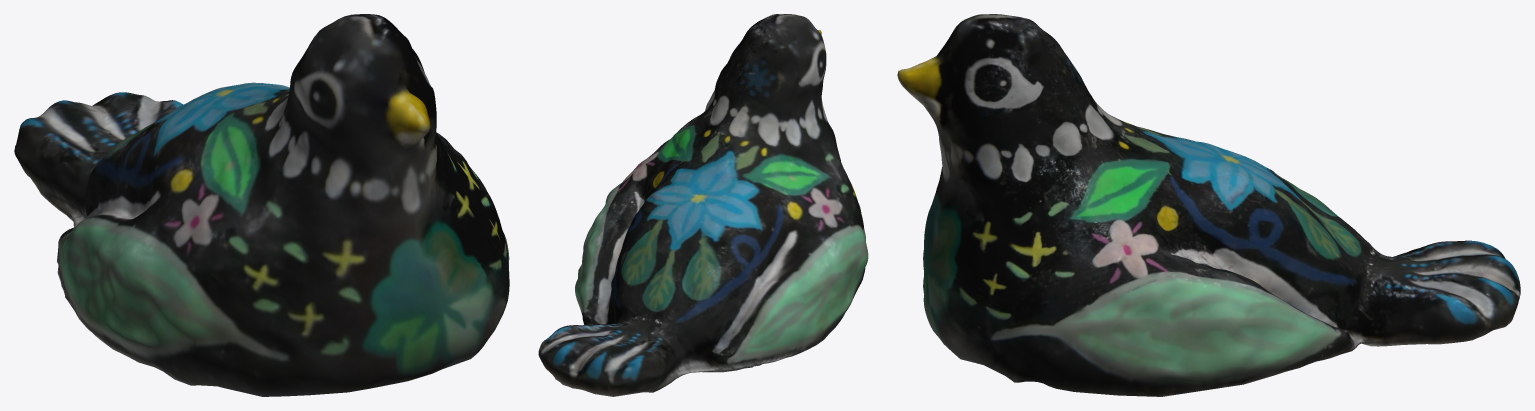
The picture shows the model from 3 angles, left to right: view 1: azimuth 30°, elevation 25°; view 2: azimuth 150°, elevation 25°; view 3: azimuth 270°, elevation 25°; orthographic projection. The views are drawn at different scales.
Bounding box in the file's own units: 0.3468 × 0.353 × 0.6088.
Materials: 1 (1 with a texture image).
